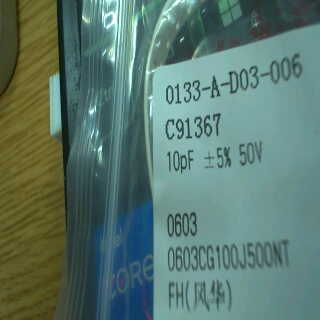10pF: (160, 144, 199, 181)
